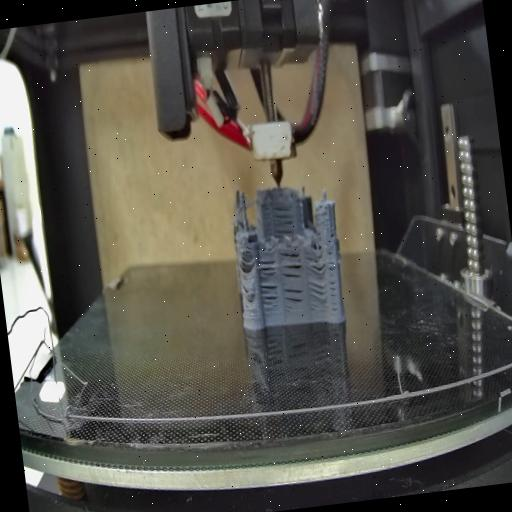cracks: (324, 250, 343, 314), (269, 202, 298, 237), (278, 250, 304, 280), (281, 284, 305, 316), (304, 248, 327, 278), (259, 281, 281, 312), (306, 280, 328, 310), (256, 255, 278, 279), (236, 250, 250, 272), (242, 279, 250, 299), (328, 226, 335, 242)
